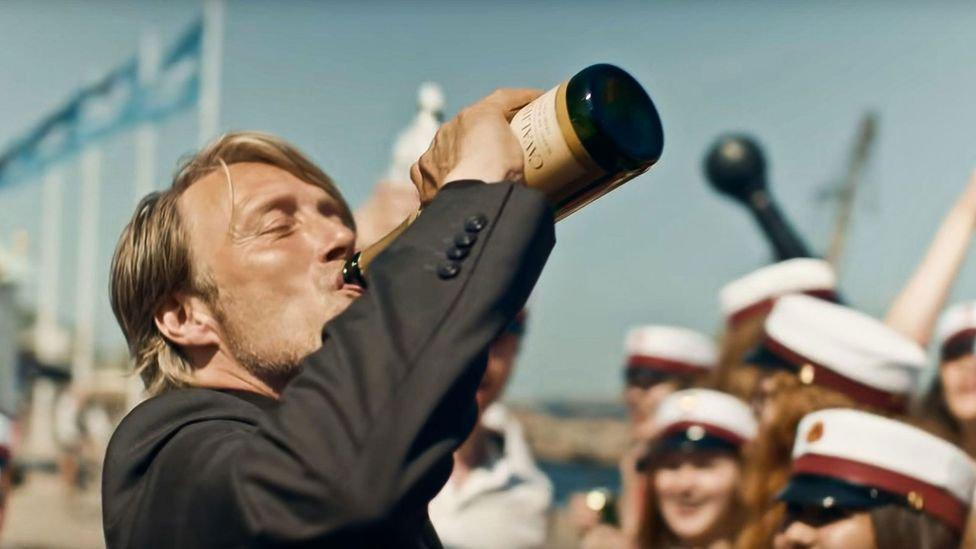Drunk: (200, 173, 361, 360)
